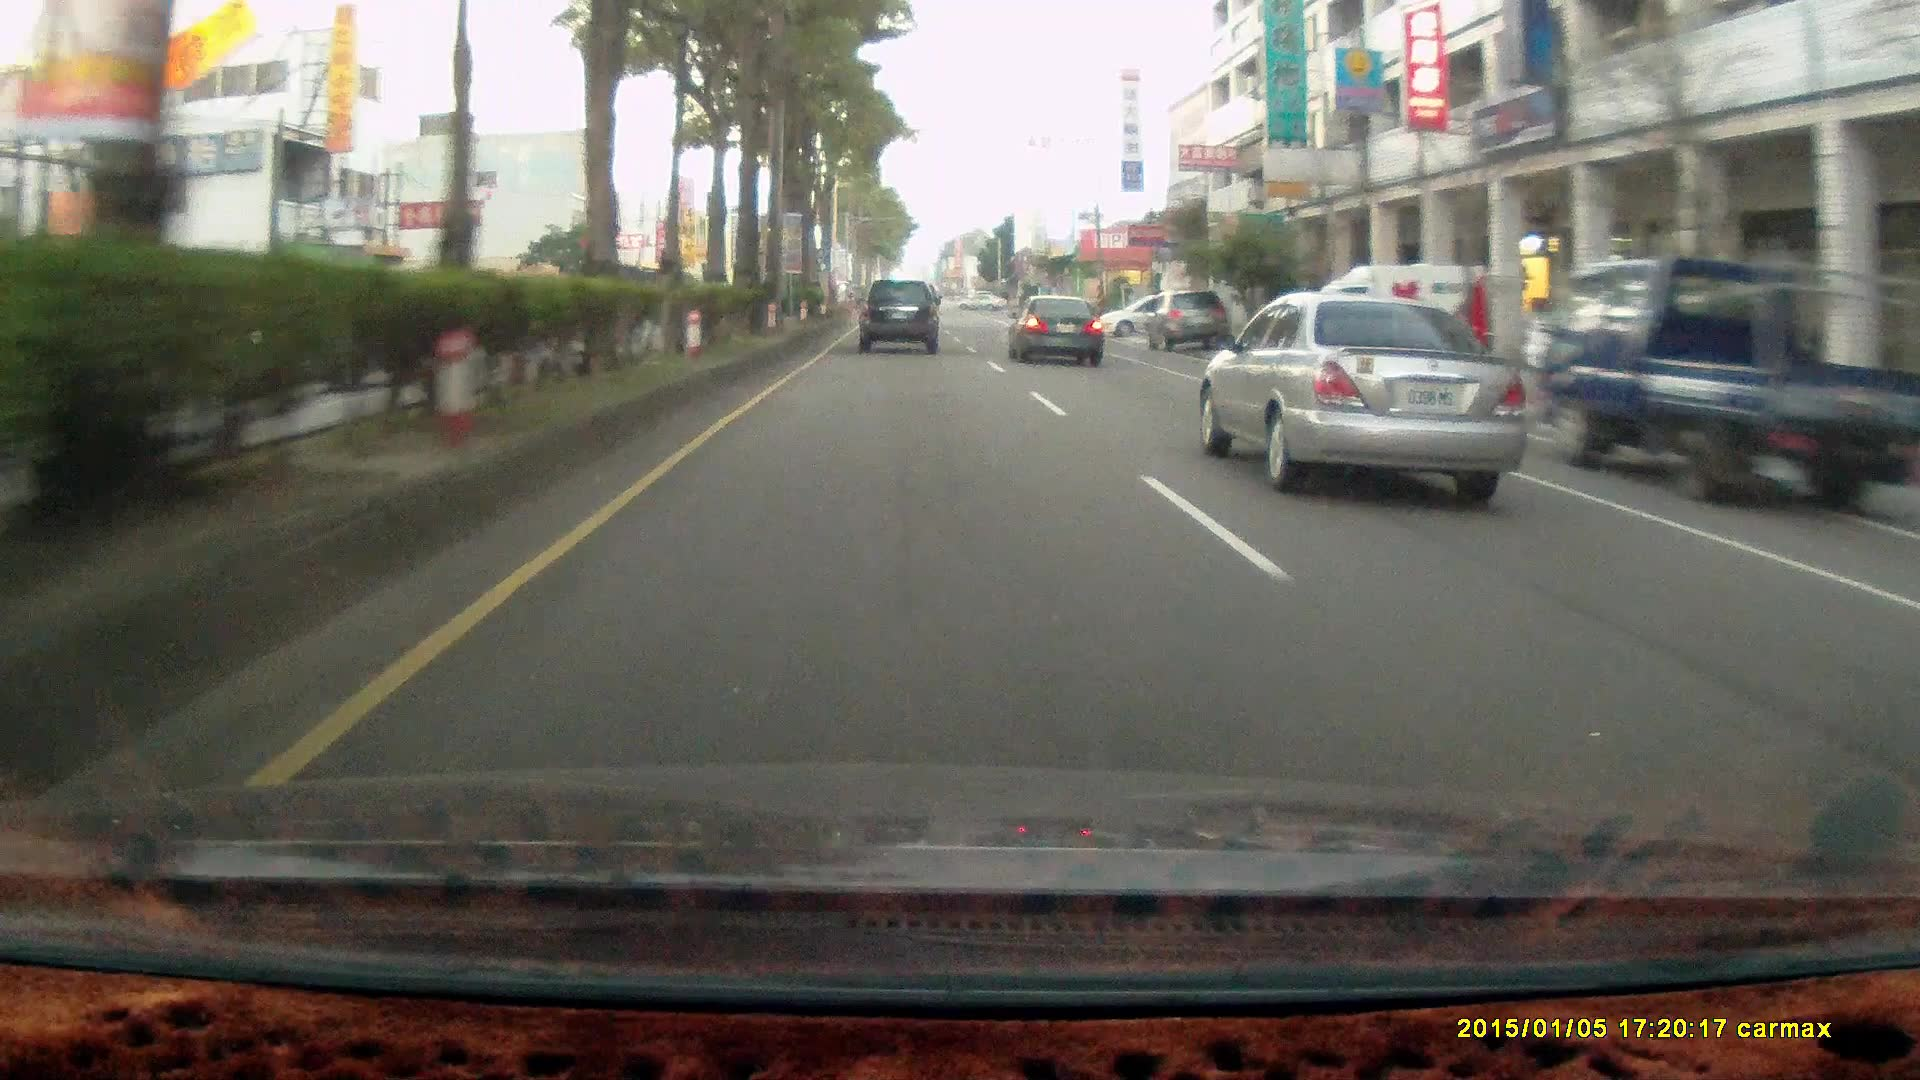vehicle: (1527, 255, 1919, 509), (1544, 256, 1920, 512), (1207, 289, 1534, 493), (1311, 262, 1498, 382), (1307, 262, 1493, 380), (1006, 291, 1108, 367), (1007, 290, 1102, 363), (857, 282, 943, 359), (857, 277, 938, 352), (1150, 289, 1232, 356)
